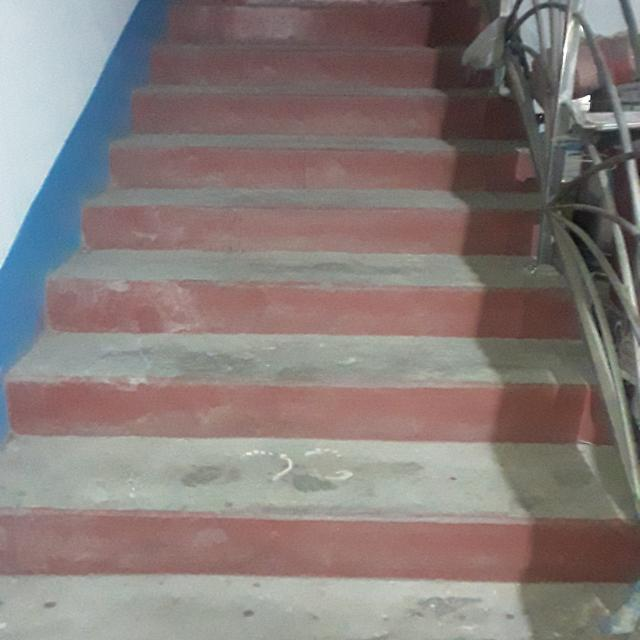Stairs: (70, 5, 620, 603)
